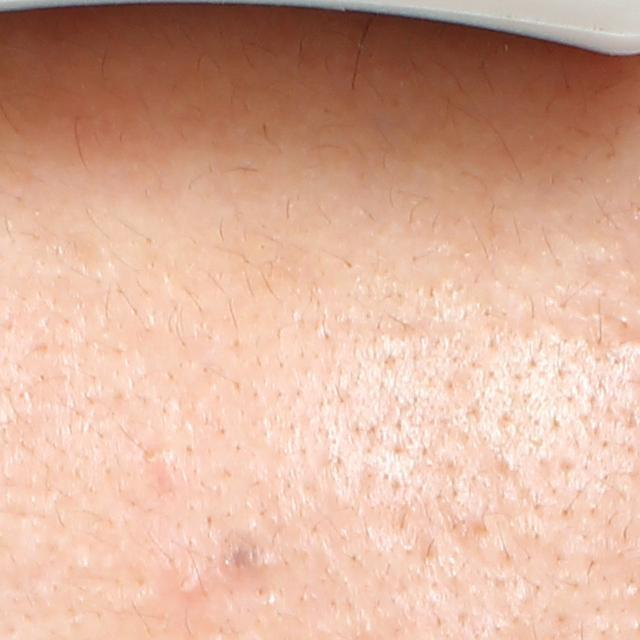comedo: (171, 567, 207, 602), (146, 444, 183, 476)
